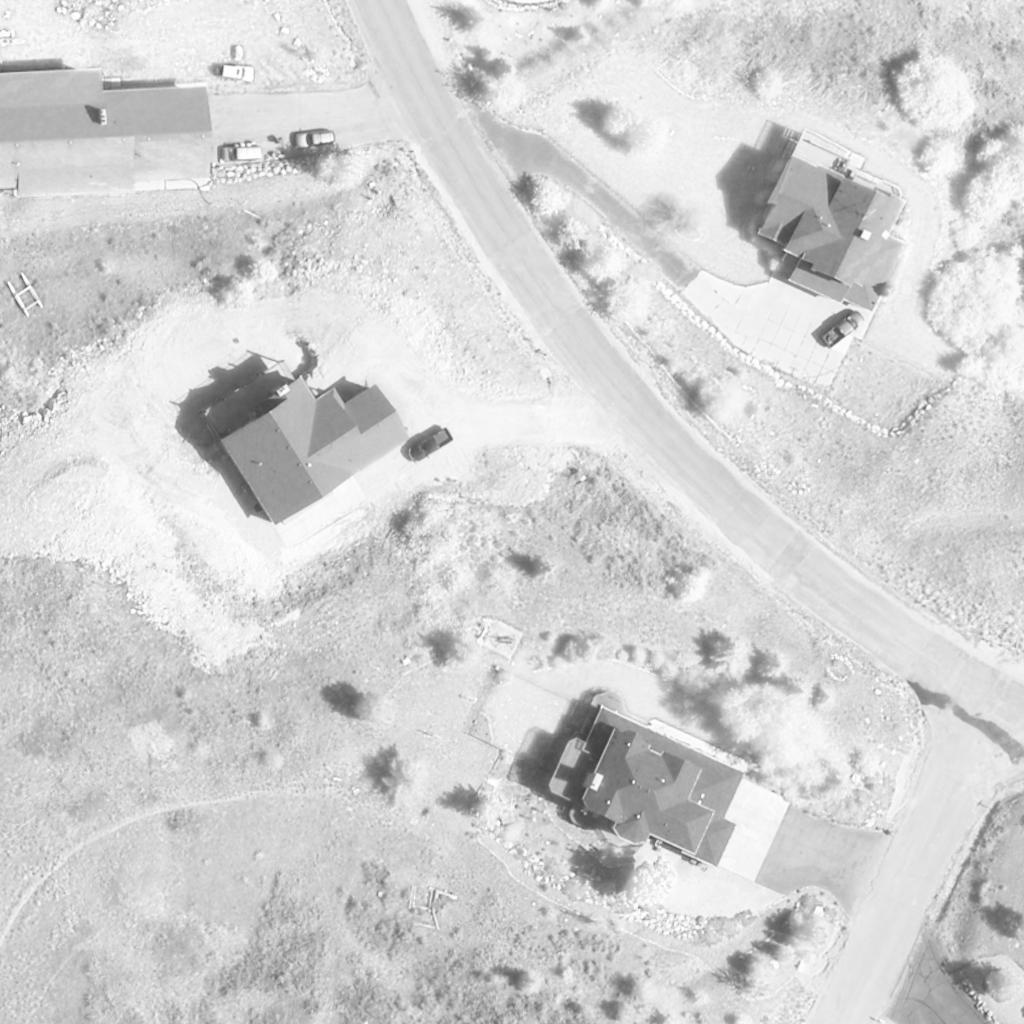vehicle: (821, 312, 865, 350), (409, 429, 455, 465), (295, 131, 337, 149), (215, 64, 255, 82), (222, 147, 264, 161)
